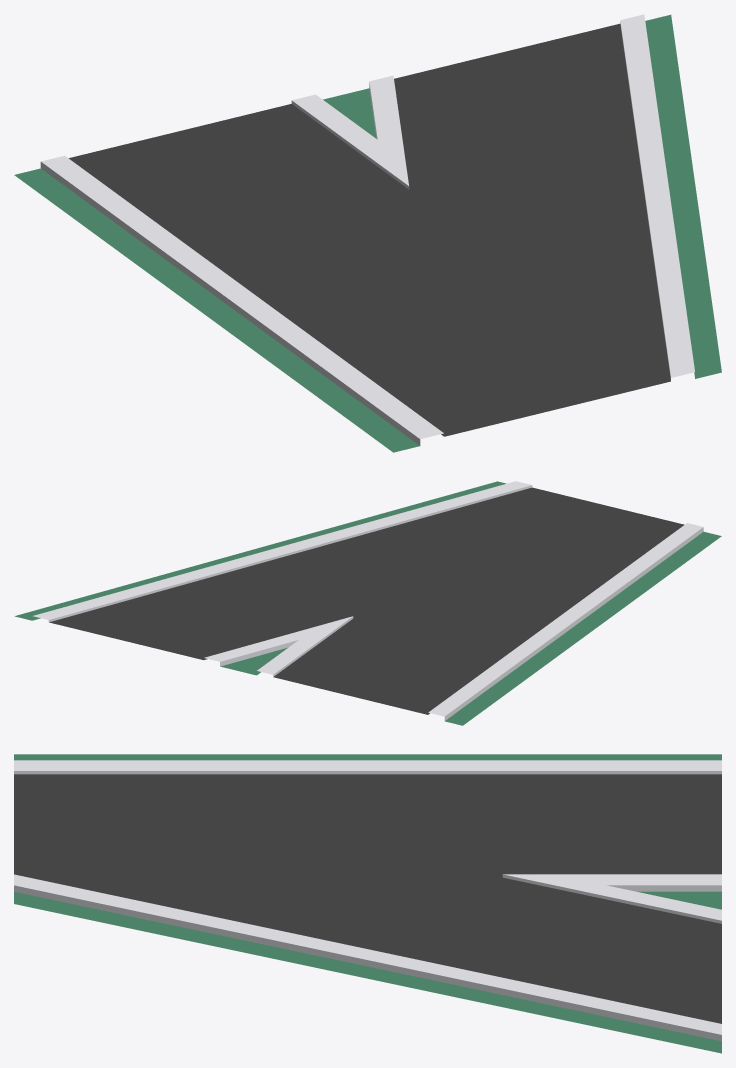
The model's file is roadPitEntry.glb.
3 views of the same model, one above another, from view 1: azimuth 30°, elevation 25°; view 2: azimuth 150°, elevation 25°; view 3: azimuth 270°, elevation 25° (orthographic). The views are drawn at different scales.
Visible parts, largest first — view 1: roadPitEntry(Clone); view 2: roadPitEntry(Clone); view 3: roadPitEntry(Clone).
Boxes of the visible parts, left/top/right/bottom form: roadPitEntry(Clone): left=14, top=14, right=721, bottom=452; roadPitEntry(Clone): left=14, top=481, right=721, bottom=725; roadPitEntry(Clone): left=14, top=754, right=721, bottom=1053.
Size of the model in its own units: 2 by 0.02 by 2.
